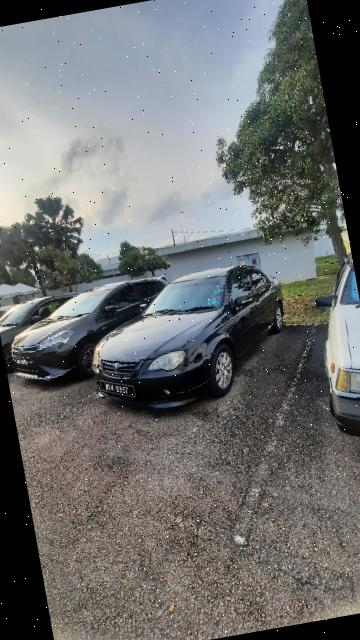License_Plate: (101, 375, 141, 405), (12, 355, 43, 374)
car: (78, 258, 303, 428), (1, 273, 187, 400), (302, 252, 360, 479)
